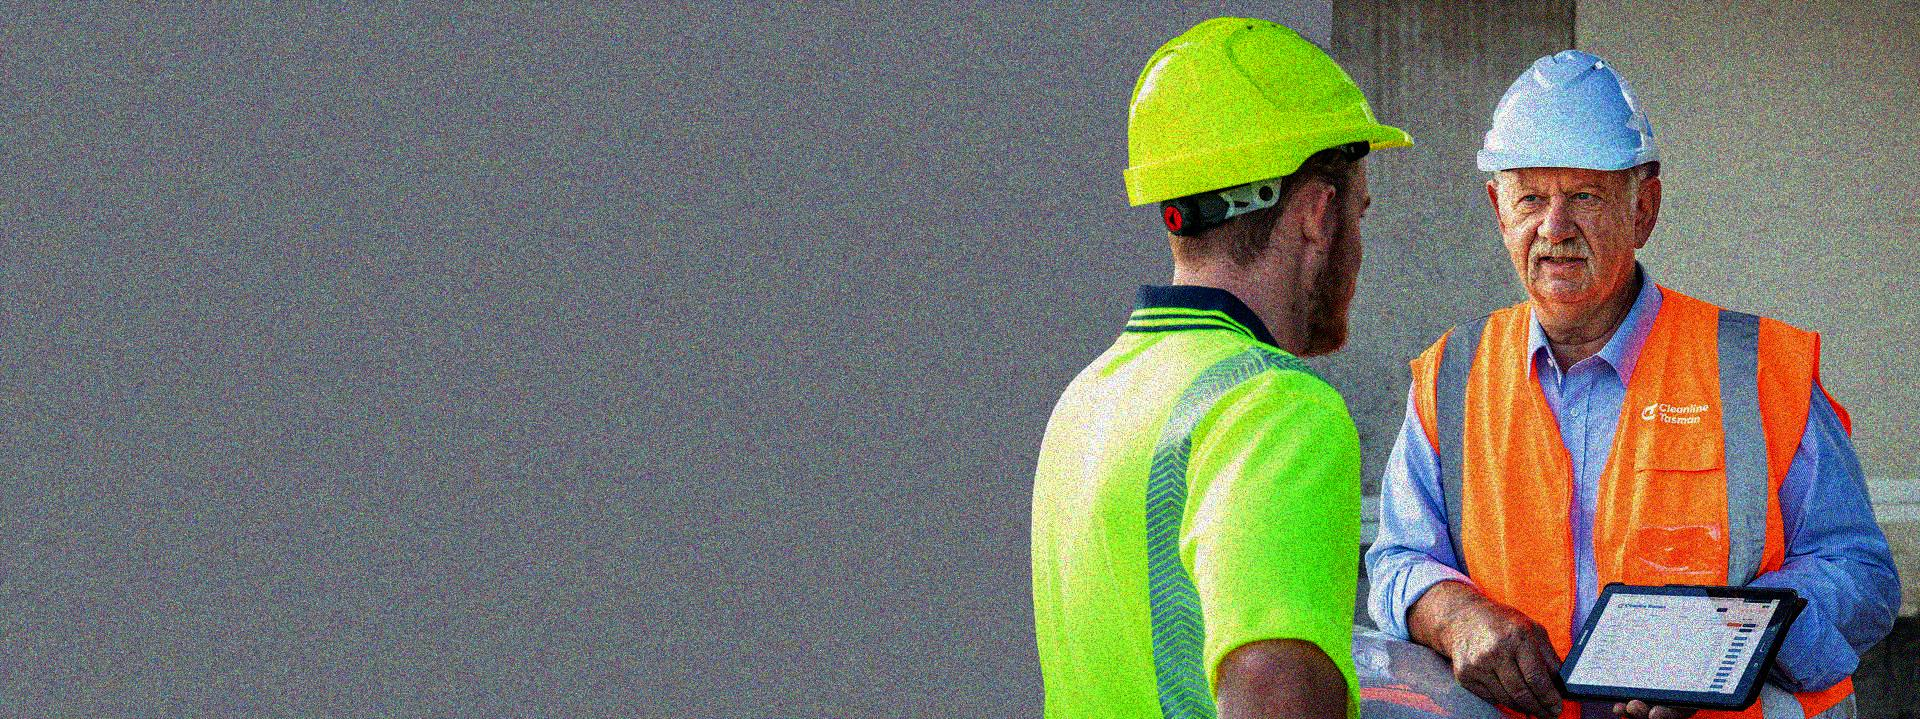helmet: (1116, 12, 1416, 352), (1472, 44, 1667, 311)
